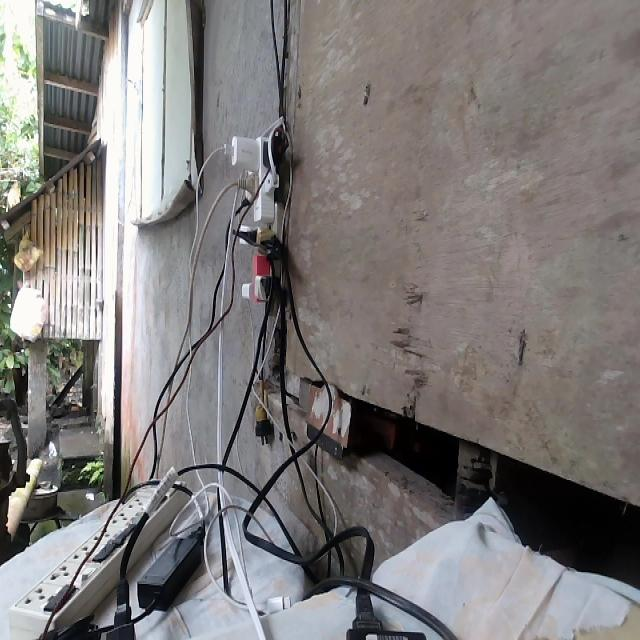-: (220, 115, 291, 305)
